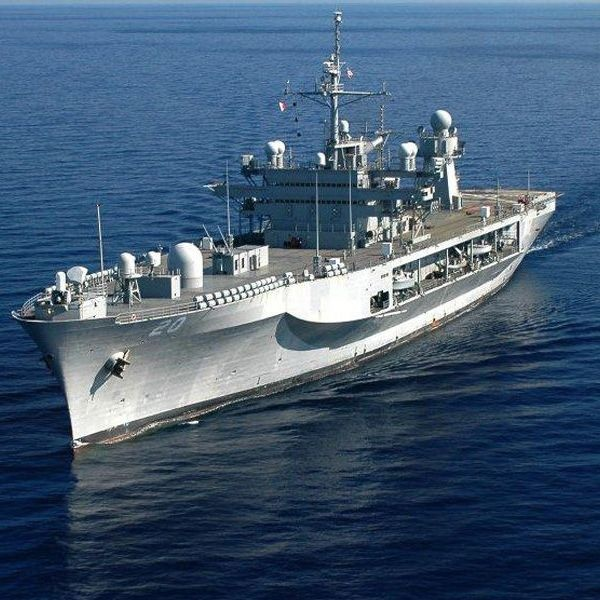warship: (8, 5, 560, 452)
